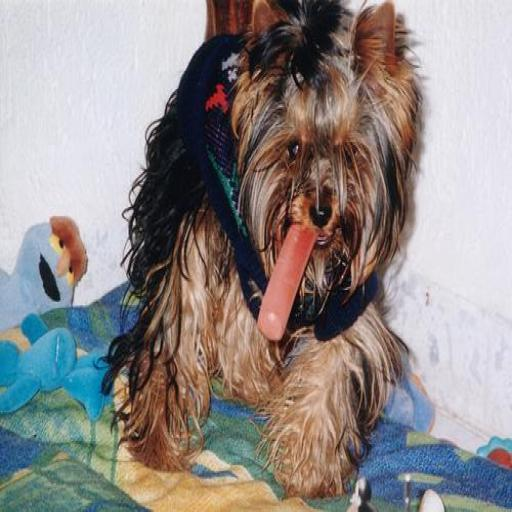dog_face: (245, 6, 400, 284)
